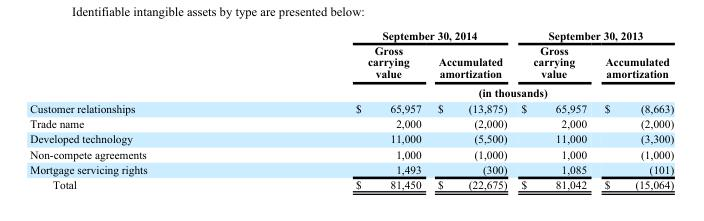table: (29, 28, 673, 190)
table column: (29, 28, 250, 190), (250, 28, 428, 190), (428, 28, 513, 190), (513, 28, 594, 190), (594, 28, 673, 190)
table column header: (29, 28, 673, 100)
table row: (29, 42, 673, 82), (29, 82, 673, 100), (29, 115, 673, 131), (29, 100, 673, 115), (29, 131, 673, 146), (29, 146, 673, 161), (29, 161, 673, 176), (29, 28, 673, 42), (29, 176, 673, 190)
table spanning cell: (250, 82, 673, 100), (250, 28, 513, 42), (513, 28, 673, 42)
